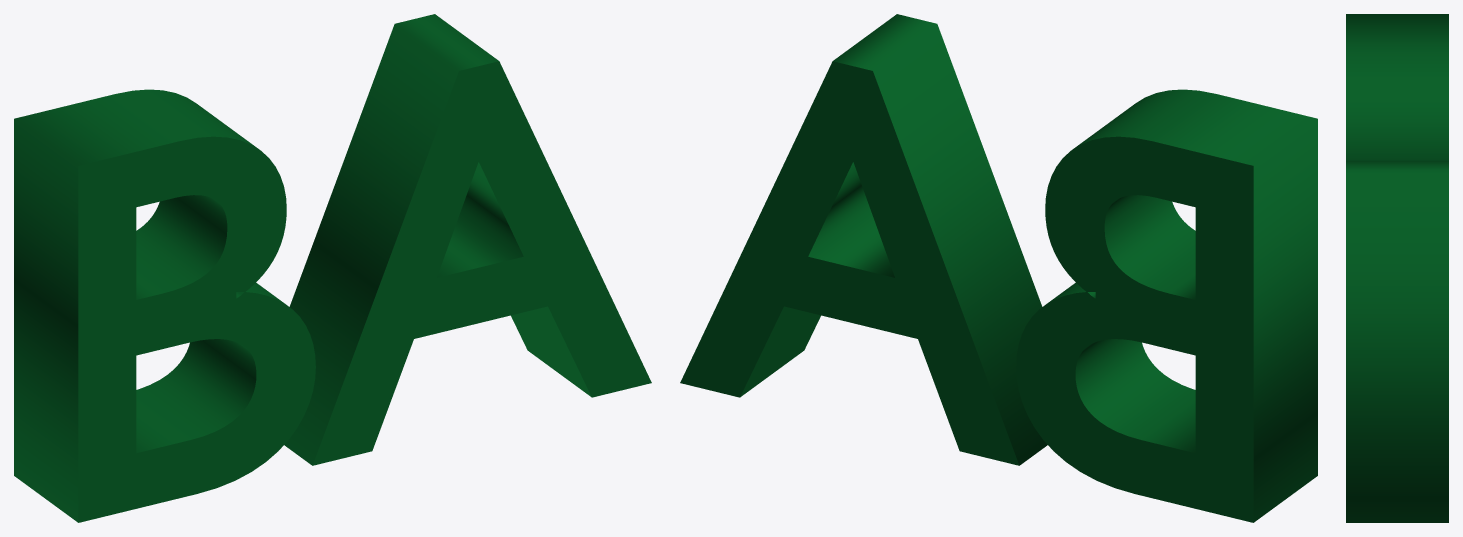
The model's file is letrero_banew.glb.
3 renders of one model, left to right at view 1: azimuth 30°, elevation 25°; view 2: azimuth 150°, elevation 25°; view 3: azimuth 270°, elevation 25°, orthographic. The views are drawn at different scales.
Visible parts, largest first — view 1: Text; view 2: Text; view 3: Text.
Boxes of the visible parts, x1,y1,x2,y2 form: Text: (14,14,651,522); Text: (680,14,1317,522); Text: (1346,14,1448,522).
Size of what is drawn, in the model's own units: 10.96 by 6.56 by 2.13.
Materials: 1 (1 with a texture image).
